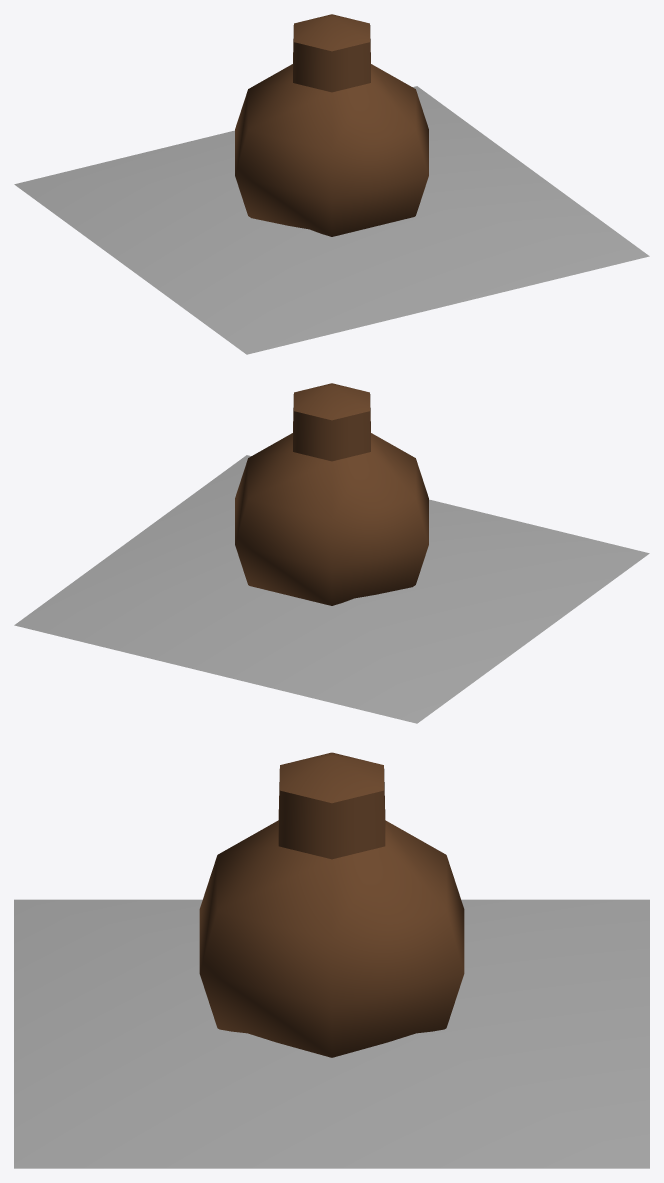
Rendered from Fish_bobber.fbx.
3 views of the same model, one above another, from view 1: azimuth 30°, elevation 25°; view 2: azimuth 150°, elevation 25°; view 3: azimuth 270°, elevation 25° (orthographic). The views are drawn at different scales.
Visible parts, largest first — view 1: polySurface625; view 2: polySurface625; view 3: polySurface625.
Part boxes in pixels (x1,y1,x2,y2): polySurface625: (14, 14, 649, 354); polySurface625: (14, 383, 649, 723); polySurface625: (14, 752, 649, 1168).
Bounding box in the file's own units: 3.49 × 1.84 × 3.49.
